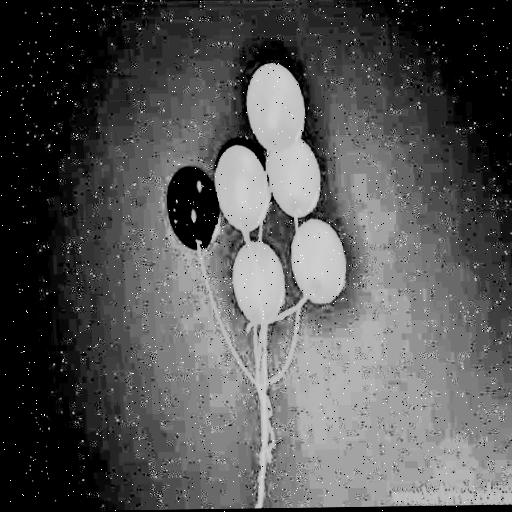balloon: (235, 53, 309, 157), (280, 212, 352, 317), (156, 160, 224, 266), (206, 139, 273, 238), (221, 238, 286, 328), (261, 135, 323, 214)
